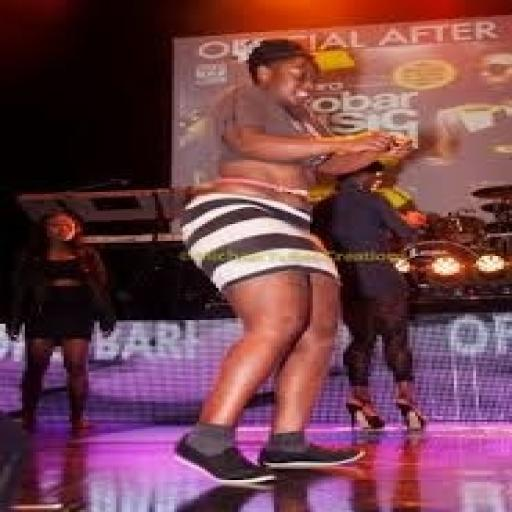dancing: (169, 38, 418, 488), (3, 205, 122, 435)
